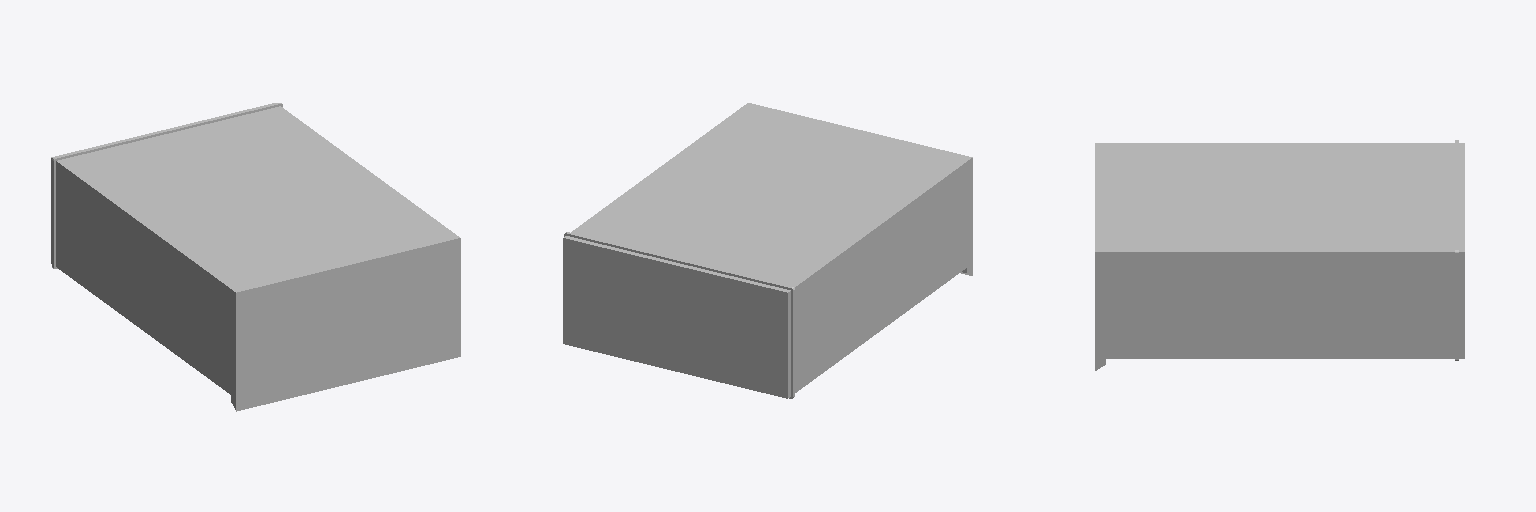
File: link_storage_cabinet_body.obj
The picture shows the model from 3 angles: view 1: azimuth 30°, elevation 25°; view 2: azimuth 150°, elevation 25°; view 3: azimuth 270°, elevation 25°; orthographic projection.
Parts seen in each view (by area): view 1: link_storage_cabinet_body_Cube.011; view 2: link_storage_cabinet_body_Cube.011; view 3: link_storage_cabinet_body_Cube.011.
Part boxes in pixels (x1,y1,x2,y2): link_storage_cabinet_body_Cube.011: (51,103,460,411); link_storage_cabinet_body_Cube.011: (563,103,972,398); link_storage_cabinet_body_Cube.011: (1095,140,1464,370).
Bounding box in the file's own units: 1.32 × 0.6705 × 1.85.